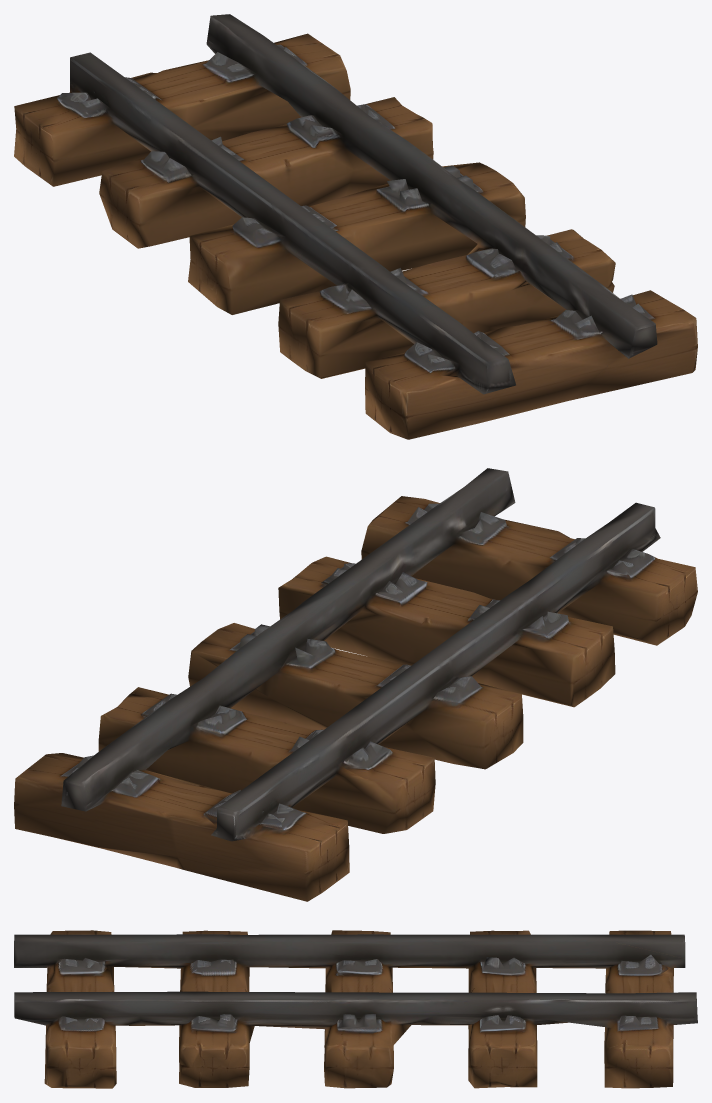
3 renders of one model, top to bottom at view 1: azimuth 30°, elevation 25°; view 2: azimuth 150°, elevation 25°; view 3: azimuth 270°, elevation 25°, orthographic. The views are drawn at different scales.
Parts seen in each view (by area): view 1: tripo_node_f523efd3-c6be-436d-88b9-5c190cdbb0a7; view 2: tripo_node_f523efd3-c6be-436d-88b9-5c190cdbb0a7; view 3: tripo_node_f523efd3-c6be-436d-88b9-5c190cdbb0a7.
Part boxes in pixels (x1,y1,x2,y2): tripo_node_f523efd3-c6be-436d-88b9-5c190cdbb0a7: (14,14,697,439); tripo_node_f523efd3-c6be-436d-88b9-5c190cdbb0a7: (14,468,697,901); tripo_node_f523efd3-c6be-436d-88b9-5c190cdbb0a7: (14,930,697,1088).
Size of the model in its own units: 0.4028 by 0.1029 by 1.
1 material, 1 textured.
